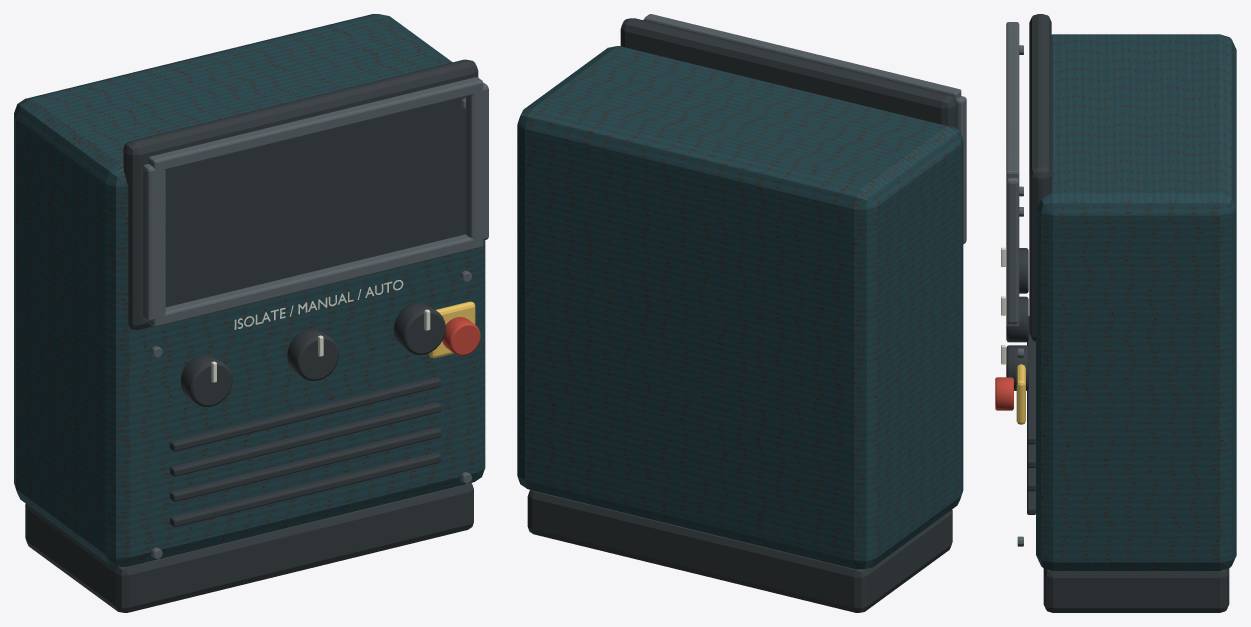
The model's file is IndustrialConsole.fbx.
3 views of the same model, side by side, from view 1: azimuth 30°, elevation 25°; view 2: azimuth 150°, elevation 25°; view 3: azimuth 270°, elevation 25° (orthographic). The views are drawn at different scales.
Parts seen in each view (by area): view 1: RiverMarinePaint_Surface.002__UnityExport, CinemaDark_Surface.002__UnityExport, CinemaSteel_Surface.003__UnityExport, CinemaCream_Surface.003__UnityExport, CinemaRed_Surface.003__UnityExport, CinemaYellow_Surface.001__UnityExport; view 2: RiverMarinePaint_Surface.002__UnityExport, CinemaDark_Surface.002__UnityExport, CinemaSteel_Surface.003__UnityExport; view 3: RiverMarinePaint_Surface.002__UnityExport, CinemaDark_Surface.002__UnityExport, CinemaSteel_Surface.003__UnityExport, CinemaRed_Surface.003__UnityExport, CinemaYellow_Surface.001__UnityExport.
Boxes of the visible parts, left/top/right/bottom form: RiverMarinePaint_Surface.002__UnityExport: left=14, top=14, right=485, bottom=566; CinemaDark_Surface.002__UnityExport: left=25, top=59, right=478, bottom=612; CinemaSteel_Surface.003__UnityExport: left=142, top=77, right=488, bottom=559; CinemaCream_Surface.003__UnityExport: left=211, top=280, right=430, bottom=382; CinemaRed_Surface.003__UnityExport: left=442, top=317, right=480, bottom=355; CinemaYellow_Surface.001__UnityExport: left=429, top=301, right=475, bottom=358; RiverMarinePaint_Surface.002__UnityExport: left=517, top=46, right=963, bottom=569; CinemaDark_Surface.002__UnityExport: left=527, top=18, right=956, bottom=612; CinemaSteel_Surface.003__UnityExport: left=643, top=14, right=966, bottom=243; RiverMarinePaint_Surface.002__UnityExport: left=1036, top=34, right=1236, bottom=570; CinemaDark_Surface.002__UnityExport: left=1006, top=14, right=1229, bottom=612; CinemaSteel_Surface.003__UnityExport: left=1006, top=22, right=1023, bottom=546; CinemaRed_Surface.003__UnityExport: left=995, top=377, right=1013, bottom=410; CinemaYellow_Surface.001__UnityExport: left=1016, top=364, right=1025, bottom=424.
Size of the model in its own units: 1.1 by 1.32 by 0.65.
